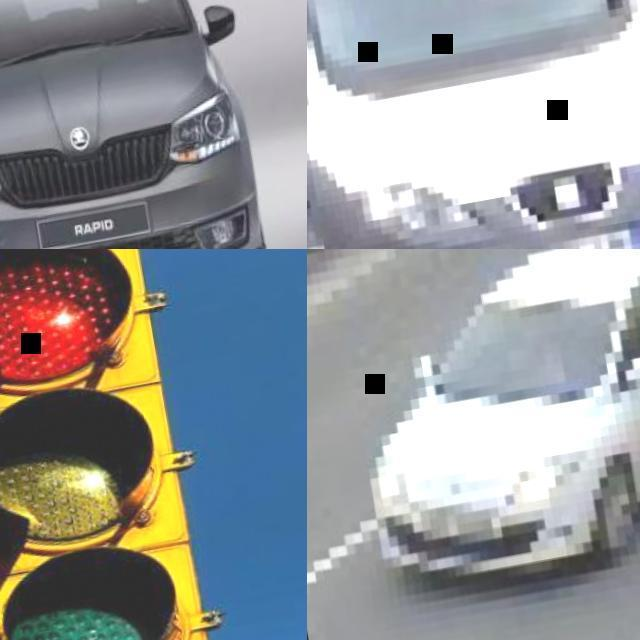car: (364, 253, 639, 587)
